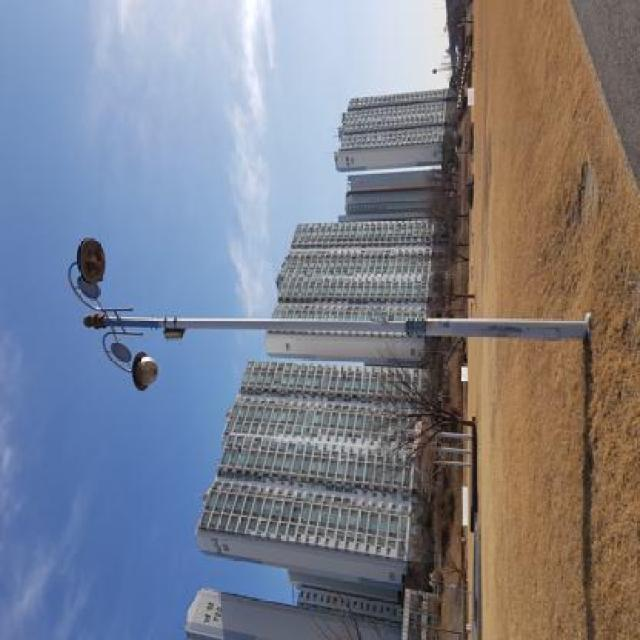pole: (56, 234, 606, 397)
